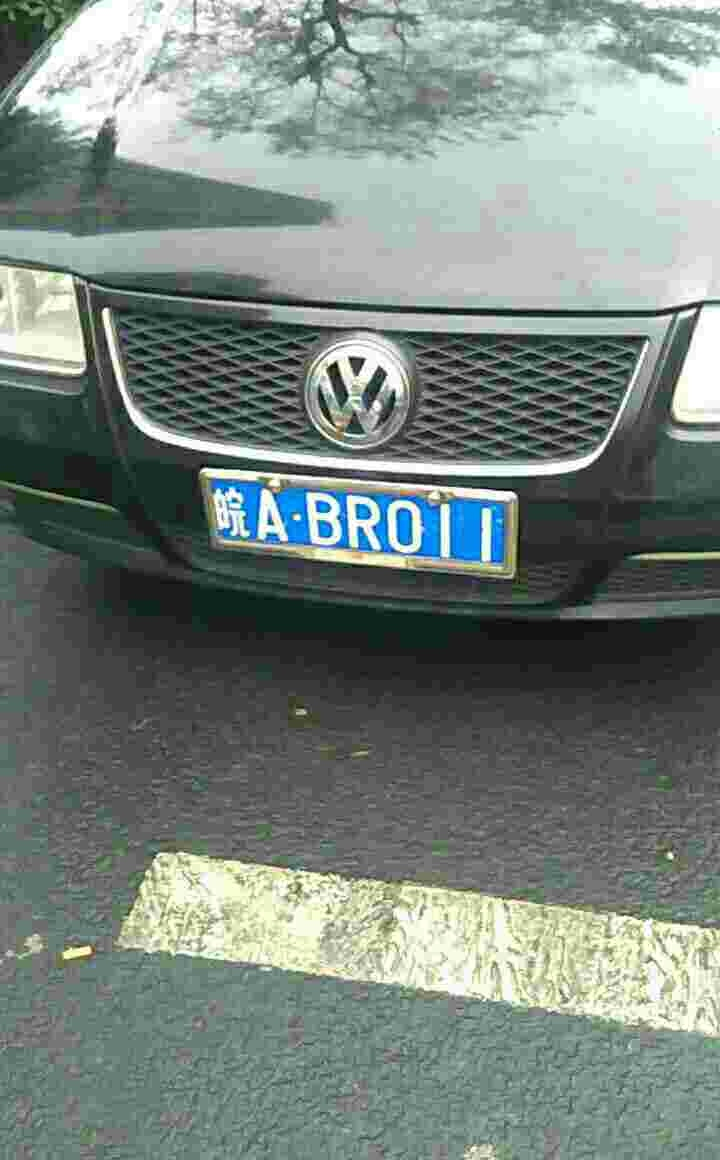license_plate: (210, 479, 507, 568)
